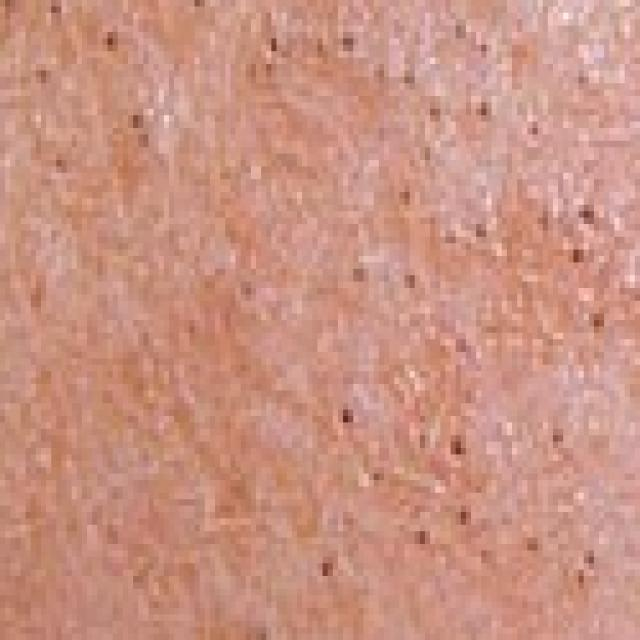blackhead: (448, 429, 470, 461), (575, 200, 597, 228), (426, 96, 444, 124), (338, 32, 358, 57), (453, 332, 472, 358), (364, 465, 386, 487), (31, 63, 51, 87), (133, 132, 152, 156), (545, 428, 569, 447), (339, 402, 356, 428), (396, 182, 414, 206), (349, 261, 367, 285), (477, 543, 494, 568), (536, 206, 553, 231), (418, 142, 436, 165), (101, 29, 118, 53), (400, 269, 419, 290), (371, 61, 388, 84), (524, 532, 541, 555), (574, 568, 588, 595), (319, 557, 335, 580), (130, 106, 145, 130), (398, 69, 416, 89), (454, 18, 469, 42), (574, 68, 592, 88), (474, 218, 490, 240), (524, 119, 542, 138), (240, 273, 252, 301), (477, 36, 492, 58), (456, 504, 469, 529), (439, 227, 457, 245), (414, 527, 431, 546), (590, 311, 604, 334), (53, 151, 67, 172), (571, 246, 585, 266), (582, 548, 598, 565), (268, 34, 279, 58), (313, 33, 324, 57), (476, 100, 490, 117), (418, 430, 428, 452), (49, 0, 61, 18), (190, 0, 209, 10), (244, 63, 256, 78), (266, 62, 272, 77)
